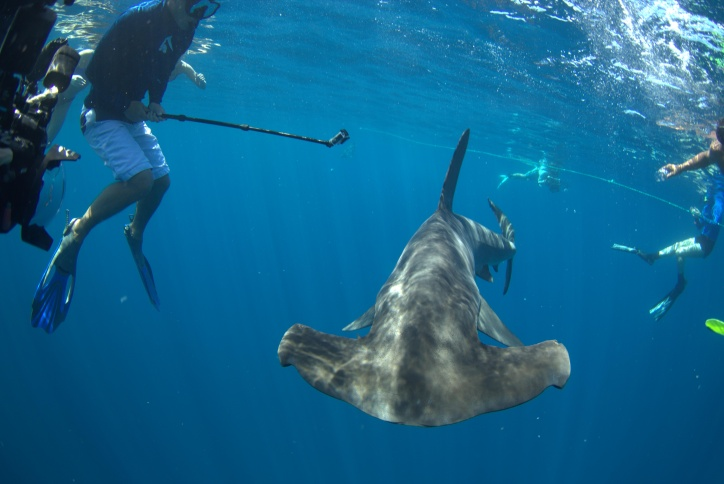Hammer: (221, 115, 591, 439)
